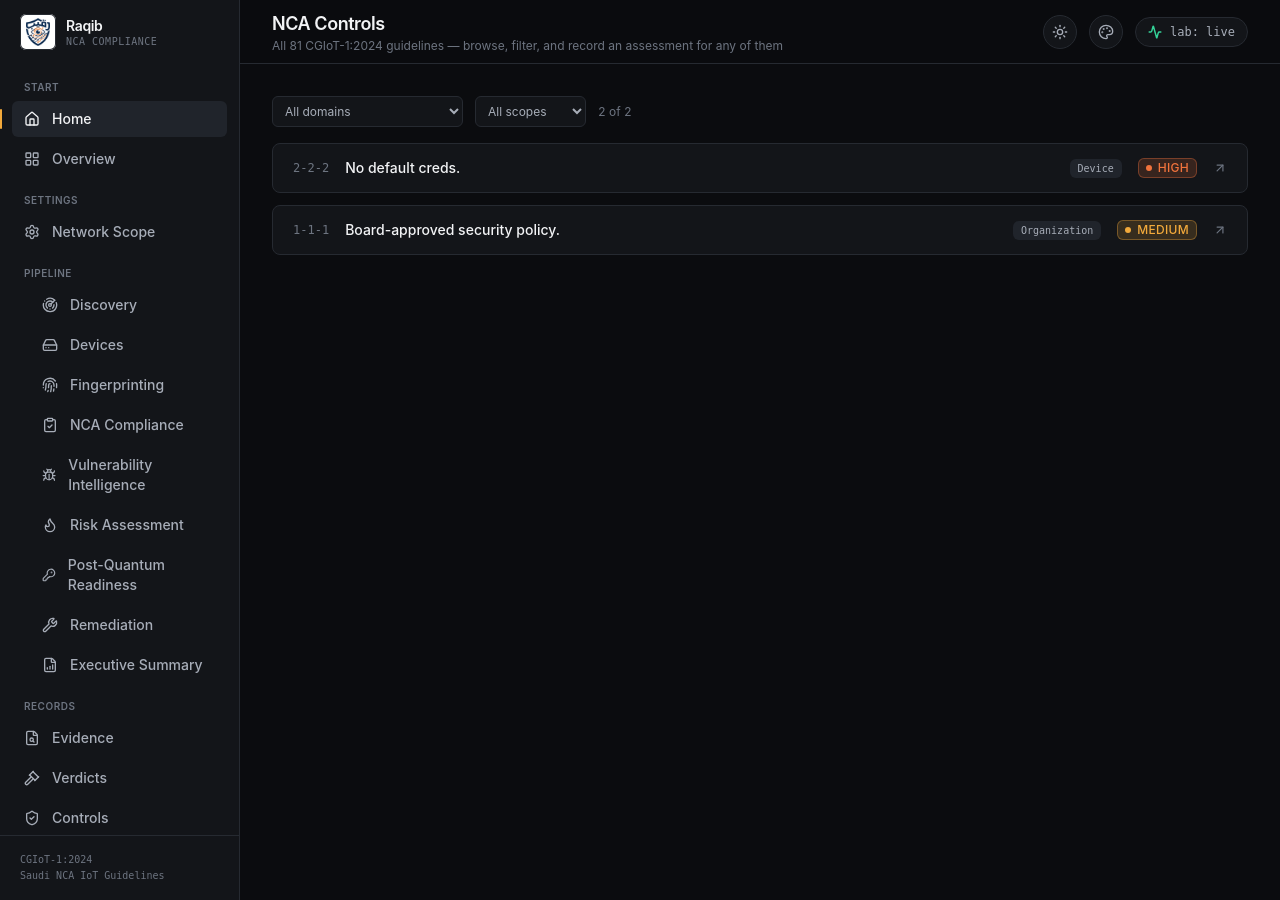
Scenario: NCAControlsPage › filters by scope
Check: the text "No default creds." is shown, box 345,159 -> 460,176
Select "Organization" in the dropdown named "filter by scope" at (530, 112), box 475,96 -> 586,127
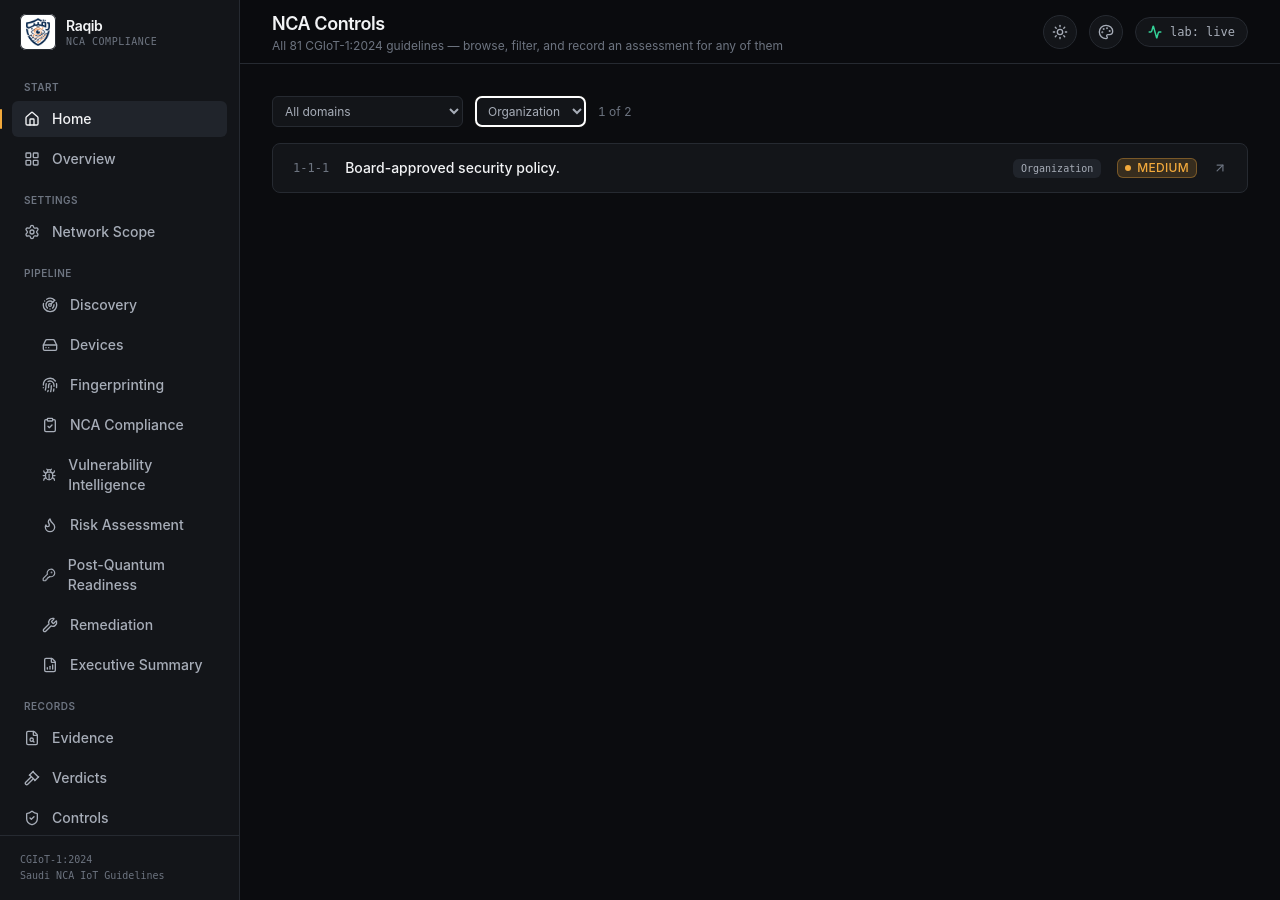
Check: the text "Board-approved security policy." is shown, box 345,159 -> 560,176
Check: the link "No default creds." is gone
